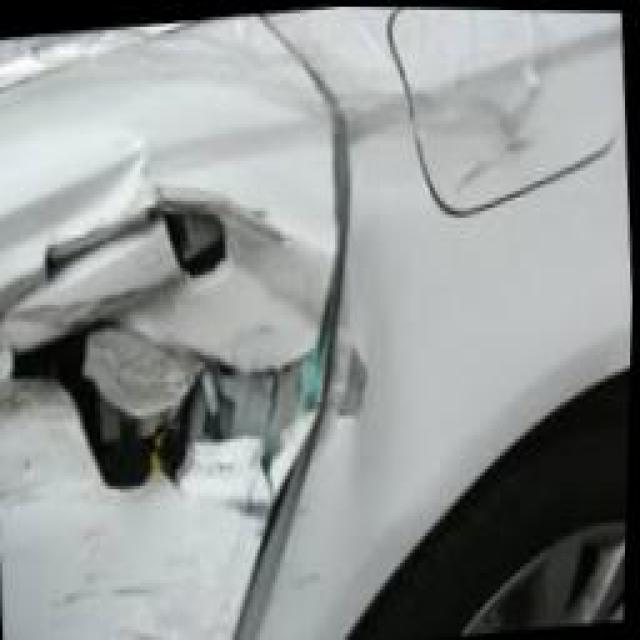Door: (0, 137, 362, 525)
